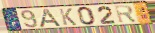0: (77, 6, 98, 26)
2: (97, 5, 118, 25)
9: (19, 9, 40, 29)
A: (40, 8, 64, 28)
K: (58, 8, 78, 26)
R: (113, 4, 139, 25)
